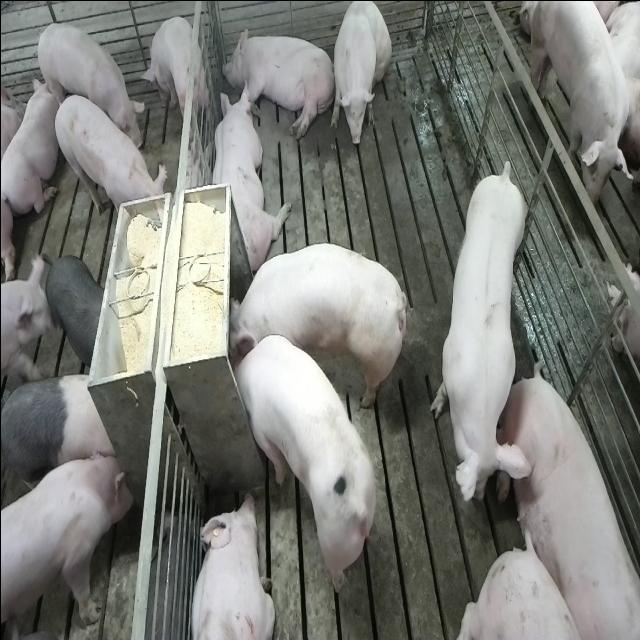Feeding: (222, 331, 372, 595), (220, 240, 400, 404)
Lateral_lying: (222, 22, 335, 140)
Sitting: (330, 0, 390, 147)
Standing: (428, 153, 528, 515), (2, 446, 134, 640), (525, 0, 639, 217), (1, 371, 120, 509), (51, 90, 166, 226), (34, 19, 144, 147), (139, 14, 204, 130), (42, 251, 106, 366)
Sternal_lying: (208, 80, 288, 274), (186, 490, 272, 640), (3, 72, 60, 216)
